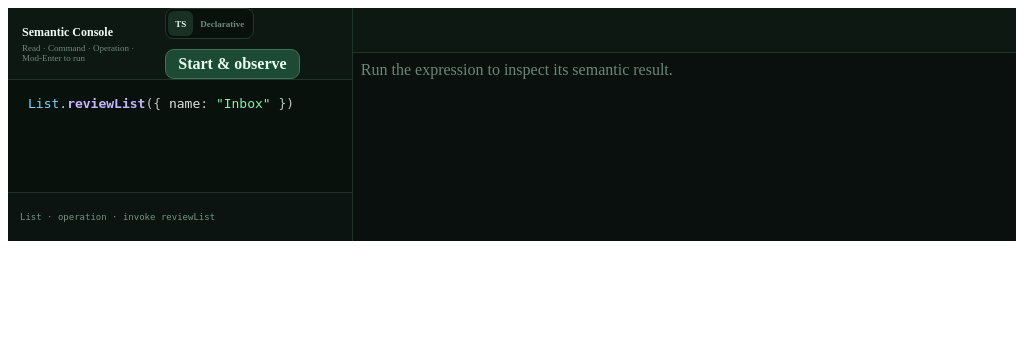
Test case: Console actions › observes and answers durable Operation interactions through Runtime Protocol
The width and height of the screenshot is (1024, 362).
Click the button "Start & observe".
click(232, 64)  # box [165, 49, 300, 79]
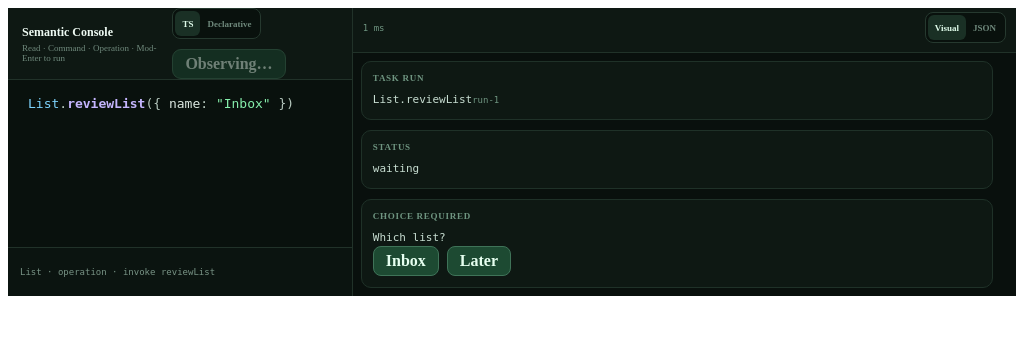
Check: the text "Which list?" is shown, box [373, 231, 446, 244]
Check: the button "Observing…" is disabled, box [172, 49, 286, 79]
Click the button "JSON".
click(984, 28)  # box [966, 15, 1003, 40]
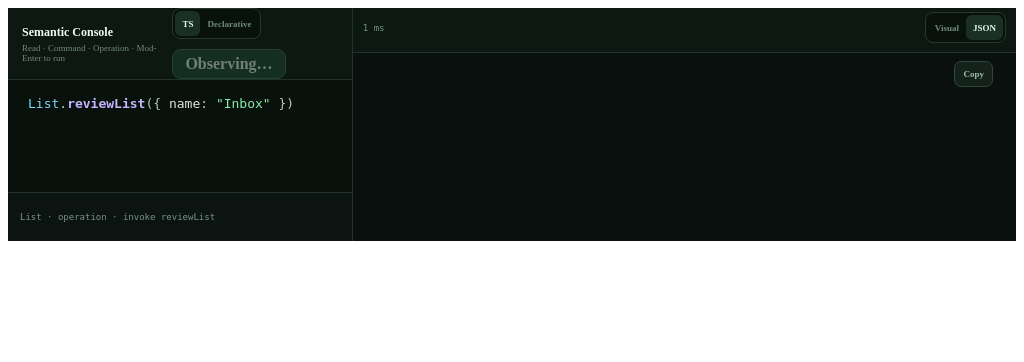
Check: the button with aria-label "Copy Operation run JSON" is shown, box [954, 61, 993, 87]
Click the button "Visual".
click(947, 28)  # box [928, 15, 966, 40]
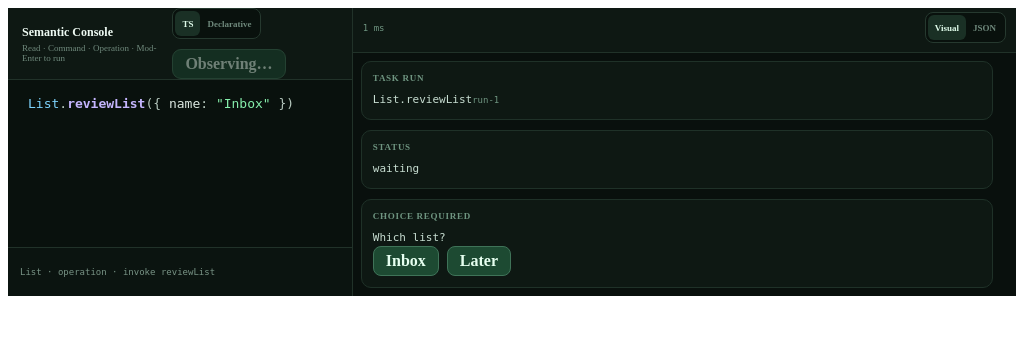
Check: the text "Which list?" is shown, box [373, 231, 446, 244]
Click the button "Later".
click(479, 261)  # box [447, 246, 511, 276]
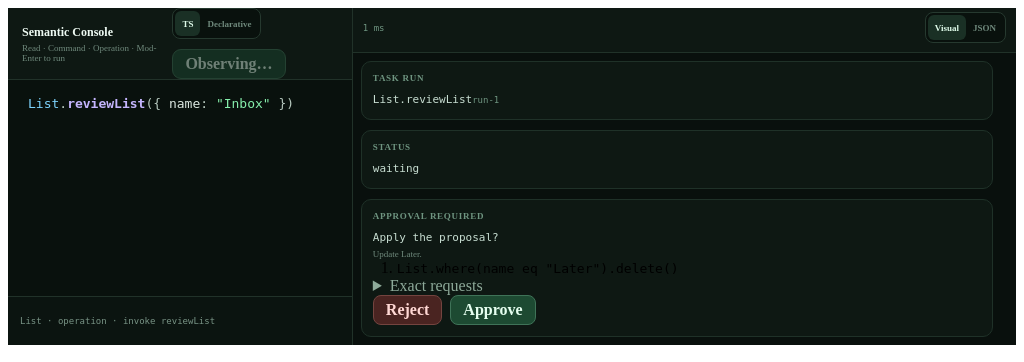
Check: the text "Apply the proposal?" is shown, box [373, 231, 499, 244]
Check: the text "Update Later." is shown, box [373, 249, 422, 259]
Check: the heading "Exact requests" is shown, box [390, 277, 483, 294]
Click the button "Approve".
click(493, 310)  # box [450, 295, 536, 325]
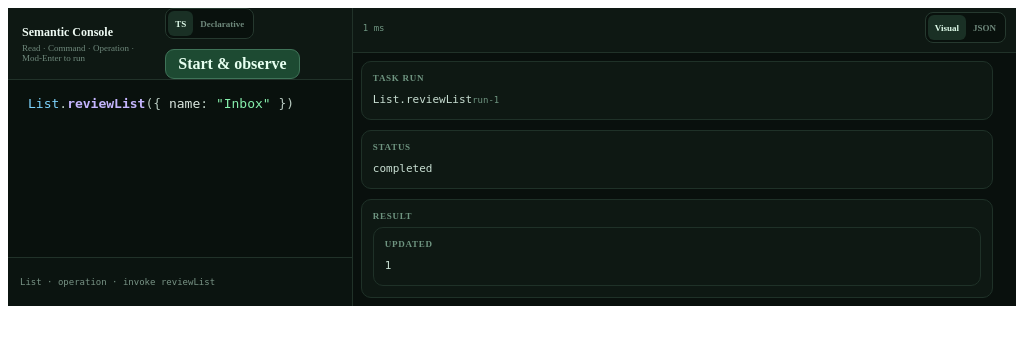
Check: the text "completed" is shown, box [373, 162, 432, 175]
Check: the text "updated" is shown, box [385, 239, 433, 249]
Check: the text "1" is shown, box [385, 259, 391, 272]
